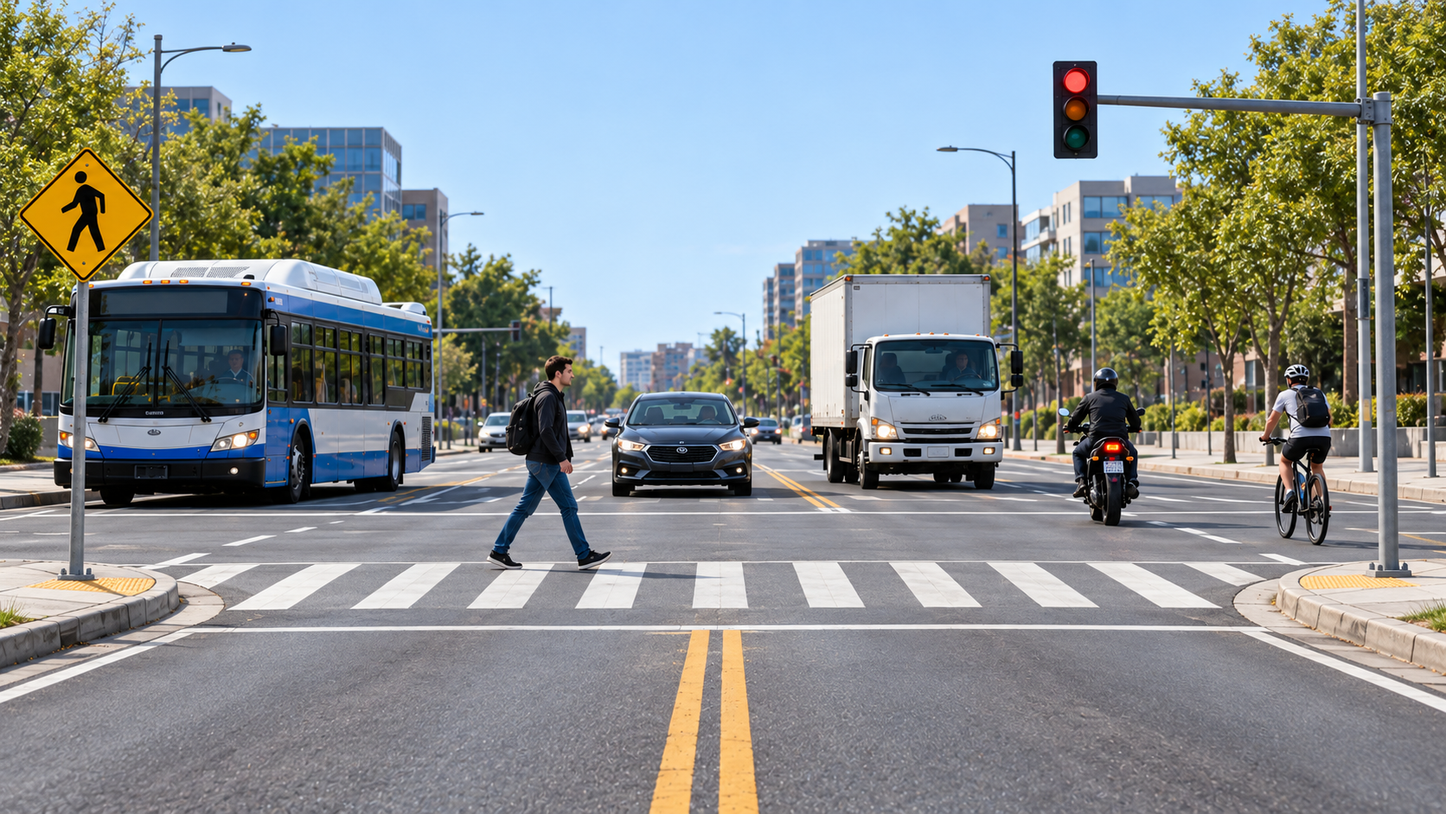bicycle: (1237, 401, 1344, 545)
bus: (35, 257, 439, 505)
car: (608, 389, 761, 501)
crossing_warning_sign: (18, 147, 156, 284)
motorcycle: (1055, 365, 1148, 529)
person: (486, 356, 614, 574), (1251, 362, 1340, 512), (1062, 365, 1141, 476)
traffic_light: (1052, 61, 1098, 160)
truck: (807, 271, 1026, 493)
zebra_crossing: (0, 553, 1446, 633)
